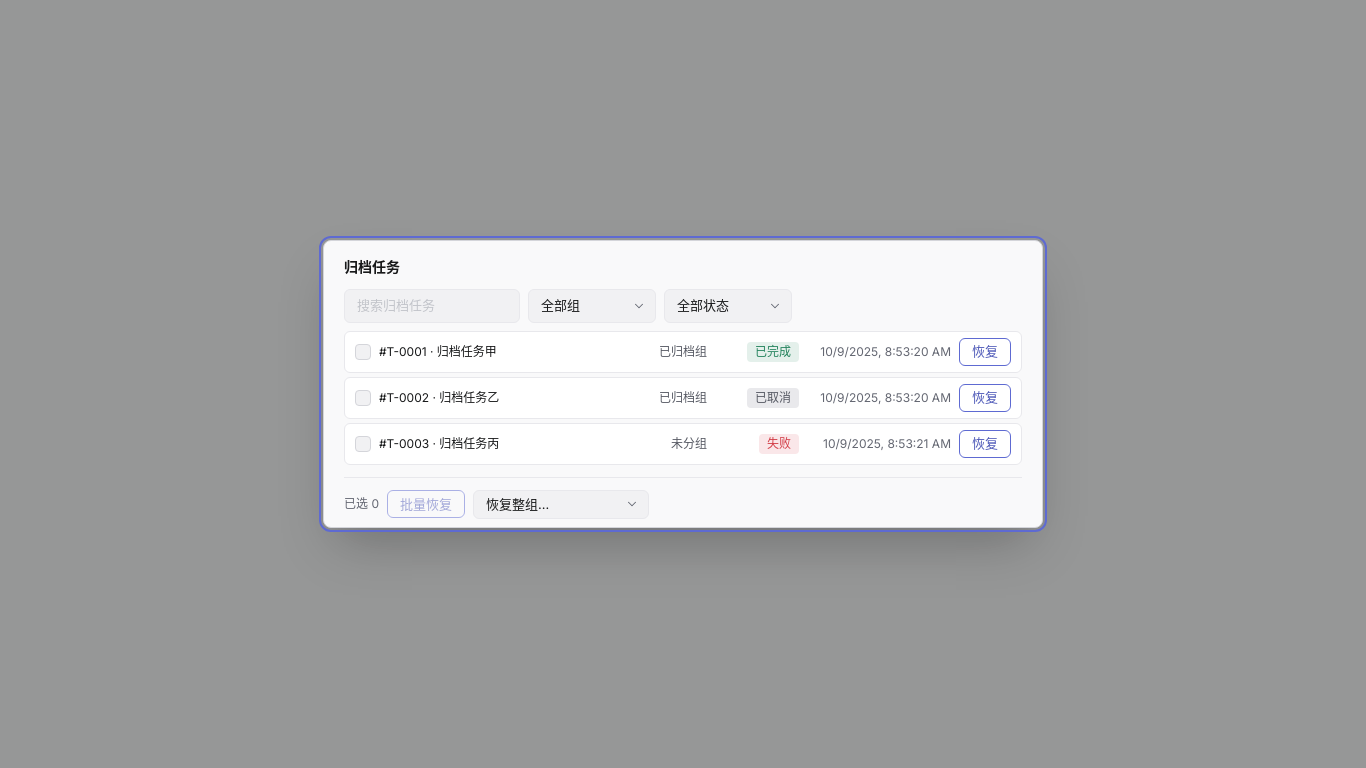
it: ArchivePanel › 恢复整组失败：toast 提示且行保留（错误路径）
The image size is (1366, 768).
Expected: the text "#T-0001 · 归档任务甲" is shown, [379,344,497,358]
Select "已归档组（2 条）" in the dropdown named "恢复整组" at (561, 504), box [473,490,649,519]
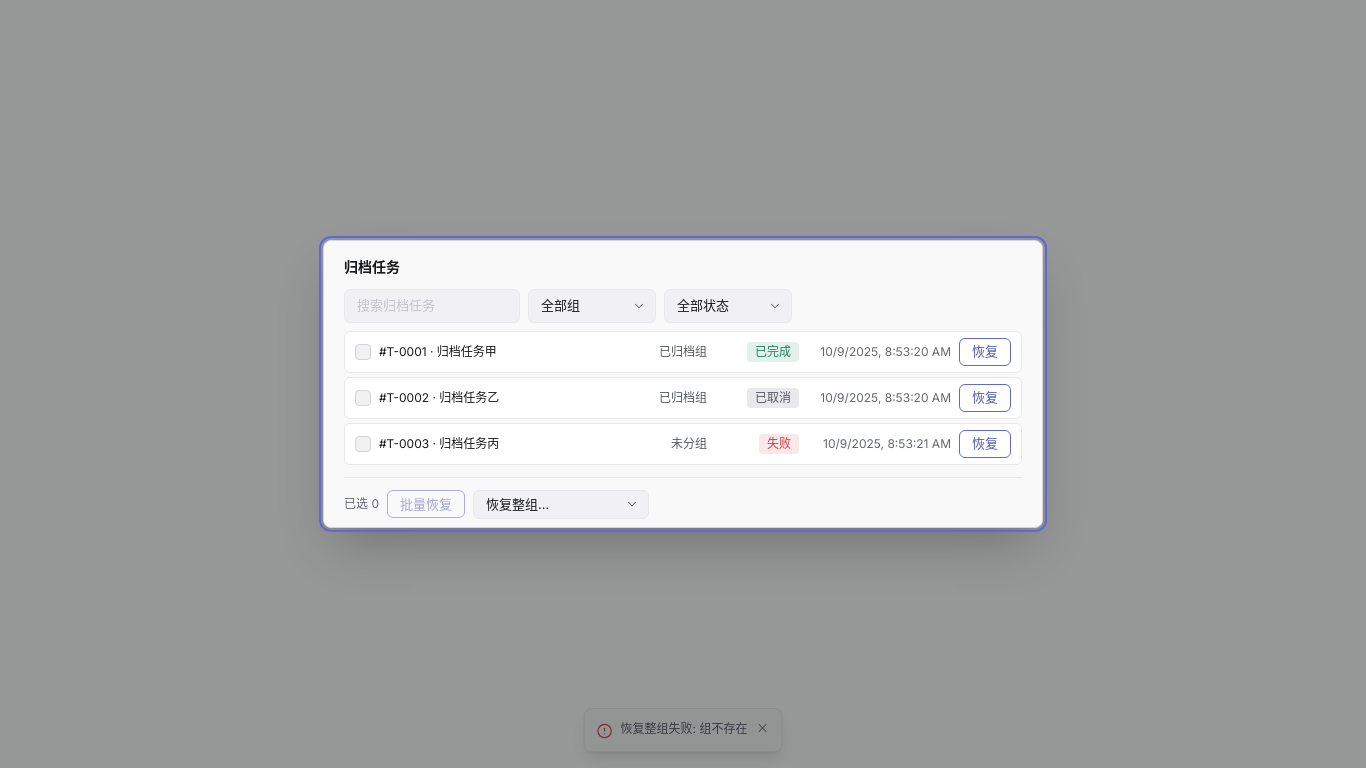
Expected: the text "#T-0001 · 归档任务甲" is shown, [379,344,497,358]
Expected: the message "恢复整组失败: 组不存在" is shown, [584,708,782,752]
Expected: the text "恢复整组失败: 组不存在" is shown, [621,721,747,737]
